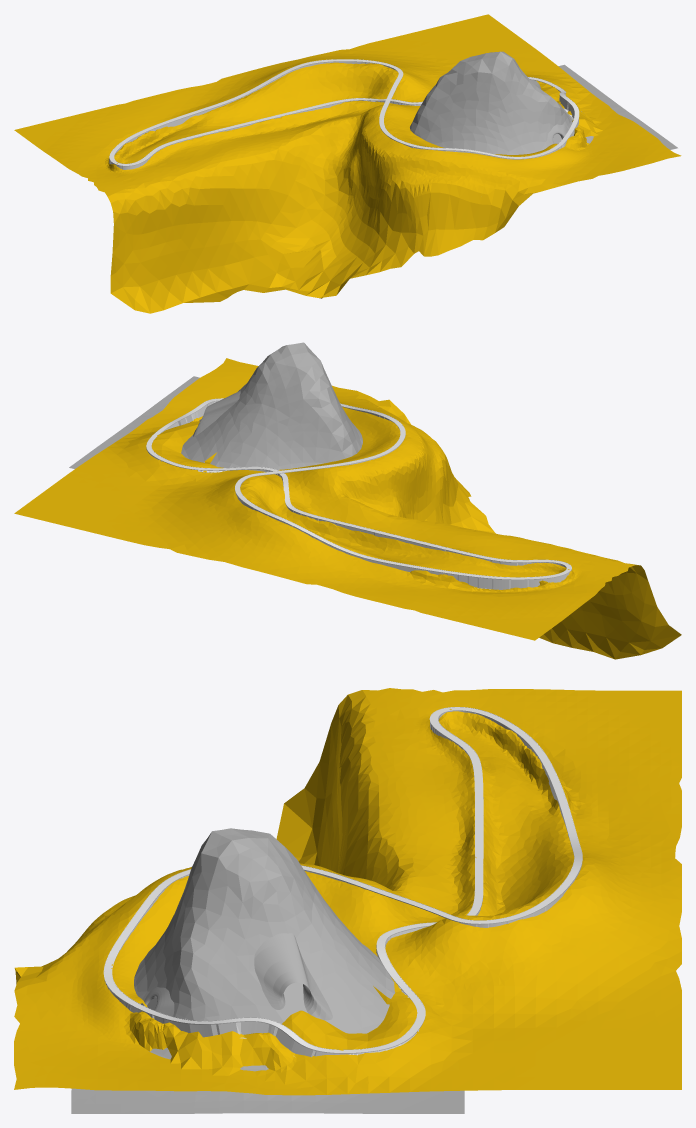
File: rata2notunnel.fbx
3 views of the same model, one above another, from view 1: azimuth 30°, elevation 25°; view 2: azimuth 150°, elevation 25°; view 3: azimuth 270°, elevation 25° (orthographic). The views are drawn at different scales.
Visible parts, largest first — view 1: terrain, montagne, rata :D, gravel; view 2: terrain, montagne, rata :D, gravel, tunneli; view 3: terrain, montagne, rata :D, tunneli, gravel.
Part boxes in pixels (<box>): terrain: <box>14,14,681,313</box>; montagne: <box>410,51,677,154</box>; rata :D: <box>109,59,579,166</box>; gravel: <box>109,61,578,169</box>; terrain: <box>14,358,681,659</box>; montagne: <box>69,342,362,469</box>; rata :D: <box>146,398,571,579</box>; gravel: <box>146,401,571,589</box>; tunneli: <box>193,390,240,436</box>; terrain: <box>14,688,681,1095</box>; montagne: <box>71,828,464,1113</box>; rata :D: <box>103,707,582,1053</box>; tunneli: <box>141,933,332,1020</box>; gravel: <box>104,711,582,1057</box>.
Bounding box in the file's own units: 11089 × 4095 × 7345.
